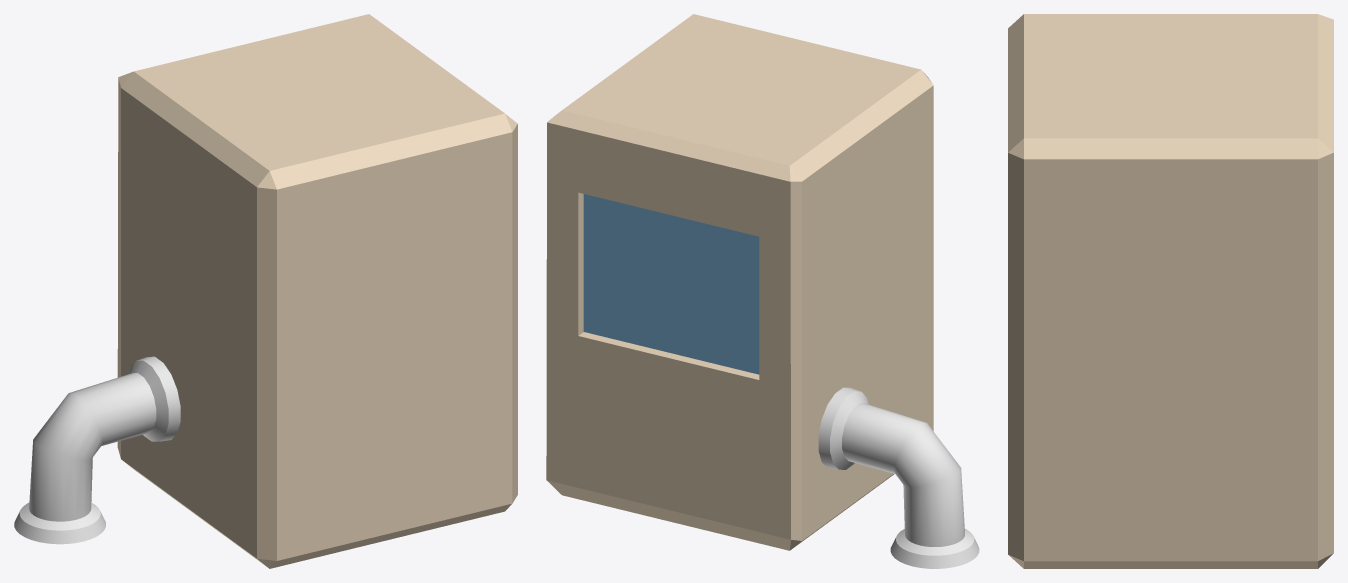
The model's file is house_a02.glb.
3 renders of one model, left to right at view 1: azimuth 30°, elevation 25°; view 2: azimuth 150°, elevation 25°; view 3: azimuth 270°, elevation 25°, orthographic. The views are drawn at different scales.
Visible parts, largest first — view 1: Cube.189, Cube.154; view 2: Cube.189, Cube.159, Cube.154; view 3: Cube.189.
Part boxes in pixels (x1,y1,x2,y2): Cube.189: (117, 14, 517, 568); Cube.154: (14, 356, 180, 544); Cube.189: (546, 14, 933, 550); Cube.159: (583, 194, 759, 374); Cube.154: (818, 387, 979, 568); Cube.189: (1008, 14, 1333, 568).
Size of the model in its own units: 4.12 by 3.91 by 2.68.
